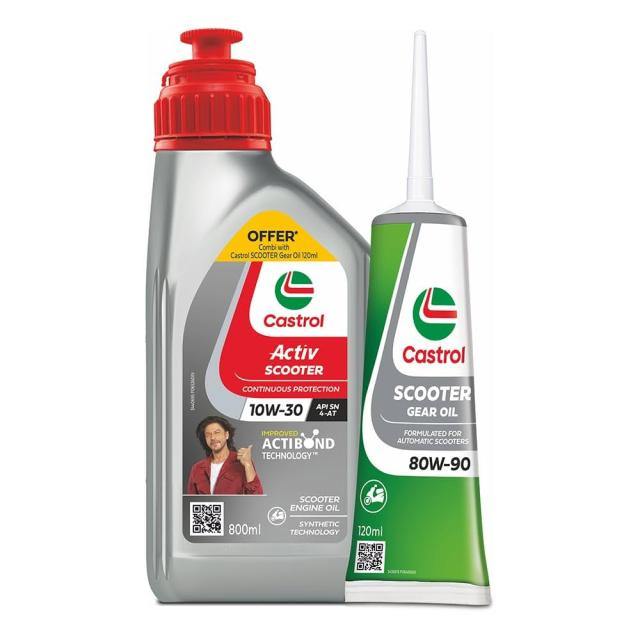-oil-: (360, 26, 486, 602)
5: (140, 25, 348, 604)
